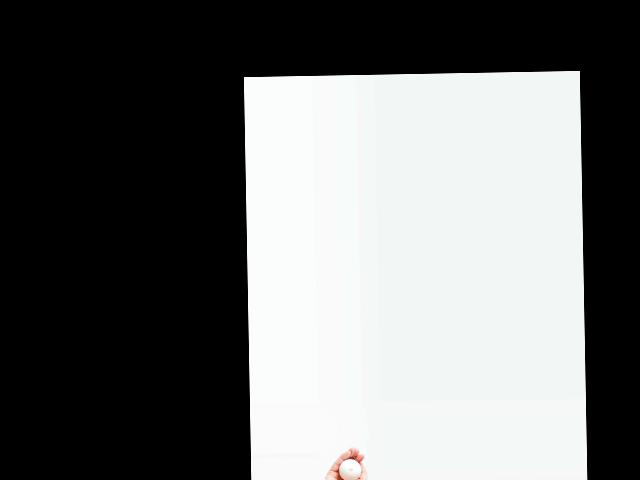egg: (338, 458, 360, 480)
